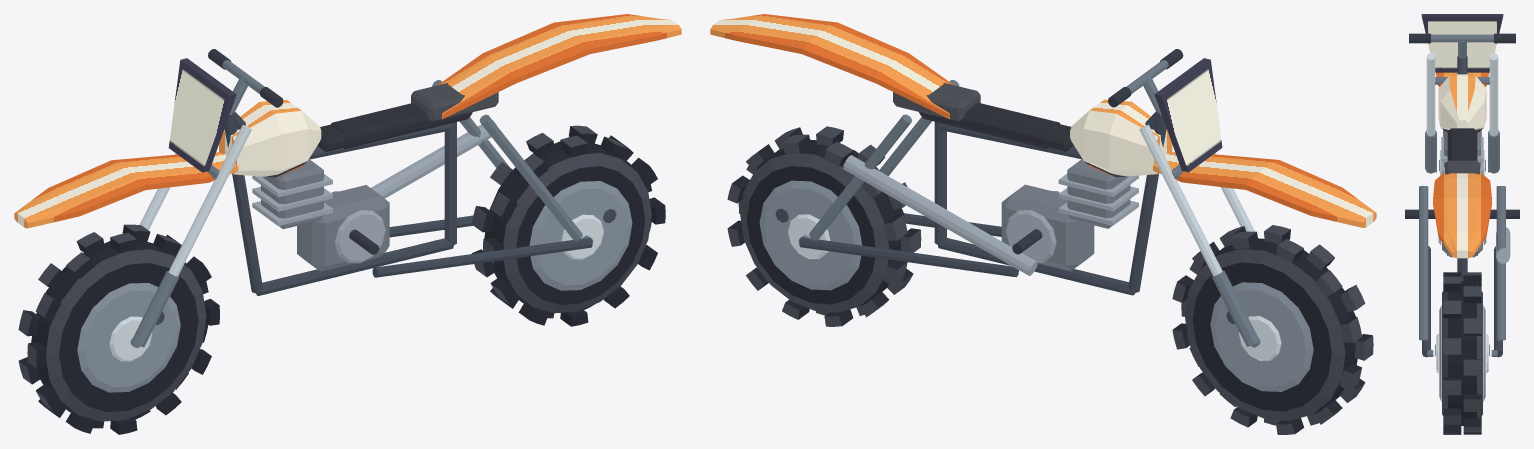
3 renders of one model, left to right at view 1: azimuth 30°, elevation 25°; view 2: azimuth 150°, elevation 25°; view 3: azimuth 270°, elevation 25°, orthographic. The views are drawn at different scales.
Visible parts, largest first — view 1: Body_static, Wheel_F_tire_hub, Wheel_R_tire_hub; view 2: Body_static, Wheel_F_tire_hub, Wheel_R_tire_hub; view 3: Body_static, Wheel_R_tire_hub, Wheel_F_tire_hub.
Part boxes in pixels (left/top/right/bottom): Body_static: left=14, top=14, right=681, bottom=348; Wheel_F_tire_hub: left=18, top=224, right=219, bottom=434; Wheel_R_tire_hub: left=471, top=125, right=665, bottom=326; Body_static: left=710, top=14, right=1376, bottom=347; Wheel_F_tire_hub: left=1172, top=225, right=1373, bottom=434; Wheel_R_tire_hub: left=727, top=126, right=921, bottom=326; Body_static: left=1405, top=14, right=1519, bottom=357; Wheel_R_tire_hub: left=1435, top=272, right=1489, bottom=434; Wheel_F_tire_hub: left=1439, top=130, right=1485, bottom=255.
Bounding box in the file's own units: 58.26 × 27.83 × 10.78.
Materials: 1 (1 with a texture image).
